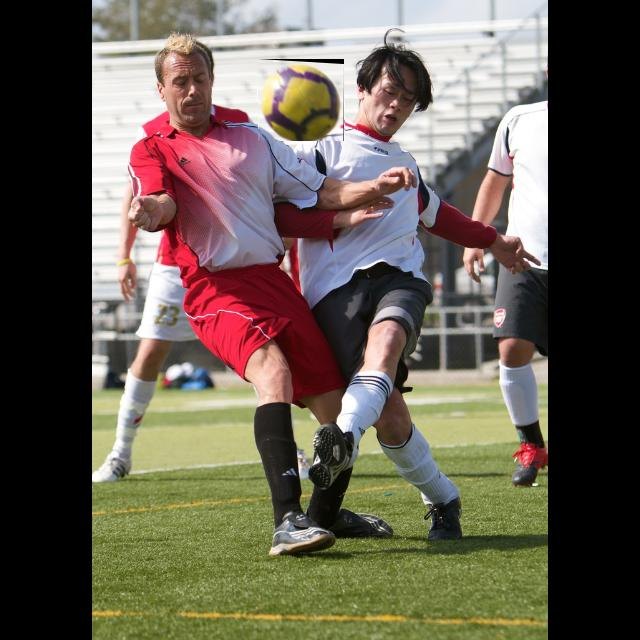Football: (258, 59, 344, 141)
